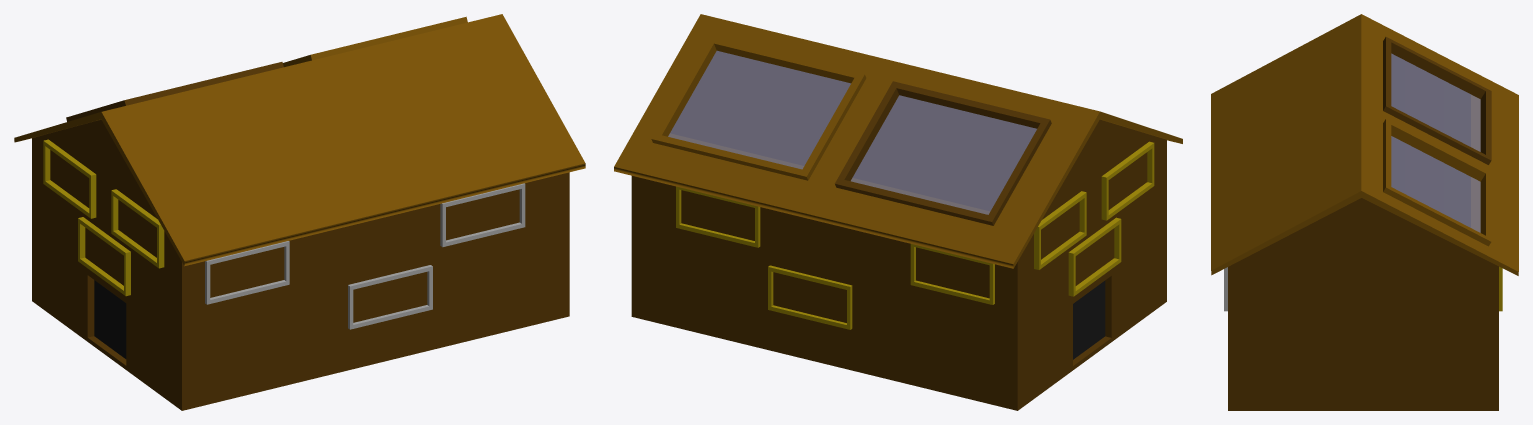
The model's file is chikken.fbx.
3 views of the same model, side by side, from view 1: azimuth 30°, elevation 25°; view 2: azimuth 150°, elevation 25°; view 3: azimuth 270°, elevation 25° (orthographic). The views are drawn at different scales.
Visible parts, largest first — view 1: pCube173; view 2: pCube173; view 3: pCube173.
Boxes of the visible parts, x1,y1,x2,y2 form: pCube173: (14, 14, 585, 410); pCube173: (614, 14, 1182, 410); pCube173: (1211, 14, 1518, 410).
Bounding box in the file's own units: 23.04 × 13.55 × 16.93.
